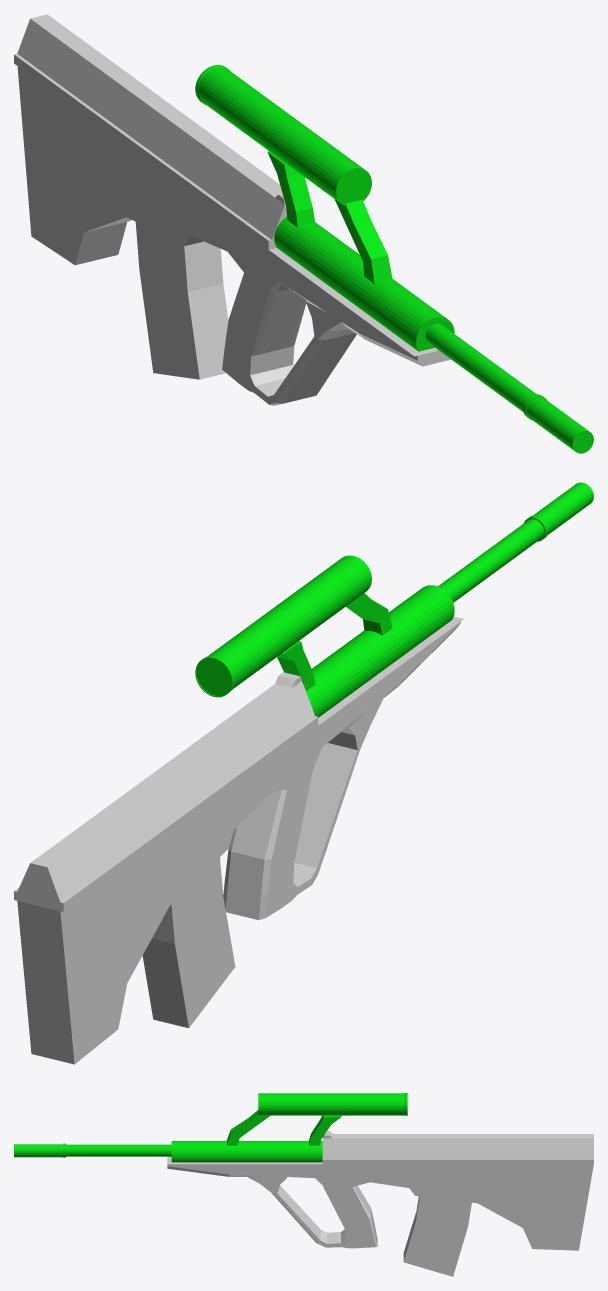
The model's file is Aug Draft.fbx.
3 renders of one model, top to bottom at view 1: azimuth 30°, elevation 25°; view 2: azimuth 150°, elevation 25°; view 3: azimuth 270°, elevation 25°, orthographic. The views are drawn at different scales.
Parts seen in each view (by area): view 1: Cube.008; view 2: Cube.008; view 3: Cube.008.
Part boxes in pixels (x1=…): Cube.008: x1=14, y1=14, x2=593, y2=453; Cube.008: x1=14, y1=482, x2=593, y2=1064; Cube.008: x1=14, y1=1093, x2=593, y2=1276.
Size of the model in its own units: 27.53 by 177 by 522.
